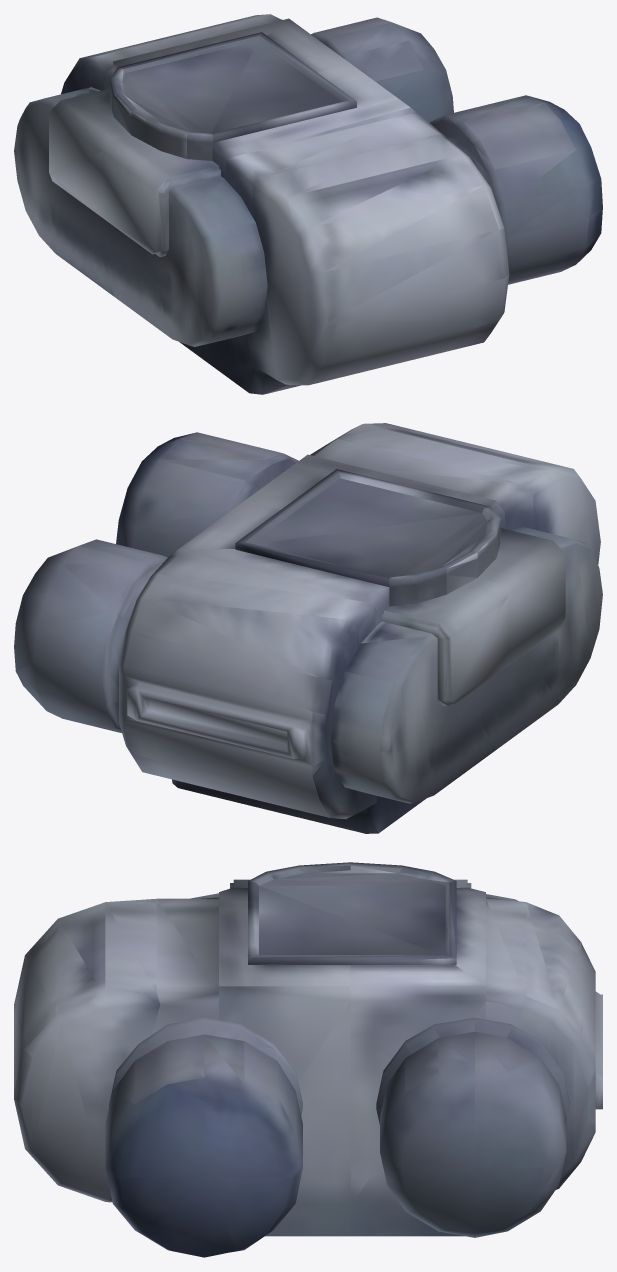
Rendered from 整備庫_12_雙推進器艙.glb.
3 renders of one model, top to bottom at view 1: azimuth 30°, elevation 25°; view 2: azimuth 150°, elevation 25°; view 3: azimuth 270°, elevation 25°, orthographic. The views are drawn at different scales.
Visible parts, largest first — view 1: 12_雙推進器艙; view 2: 12_雙推進器艙; view 3: 12_雙推進器艙.
Part boxes in pixels (x1=…): 12_雙推進器艙: x1=14, y1=14, x2=602, y2=394; 12_雙推進器艙: x1=14, y1=423, x2=602, y2=833; 12_雙推進器艙: x1=14, y1=862, x2=602, y2=1257.
Size of the model in its own units: 0.0669 by 0.0371 by 0.0786.
Materials: 1 (1 with a texture image).
